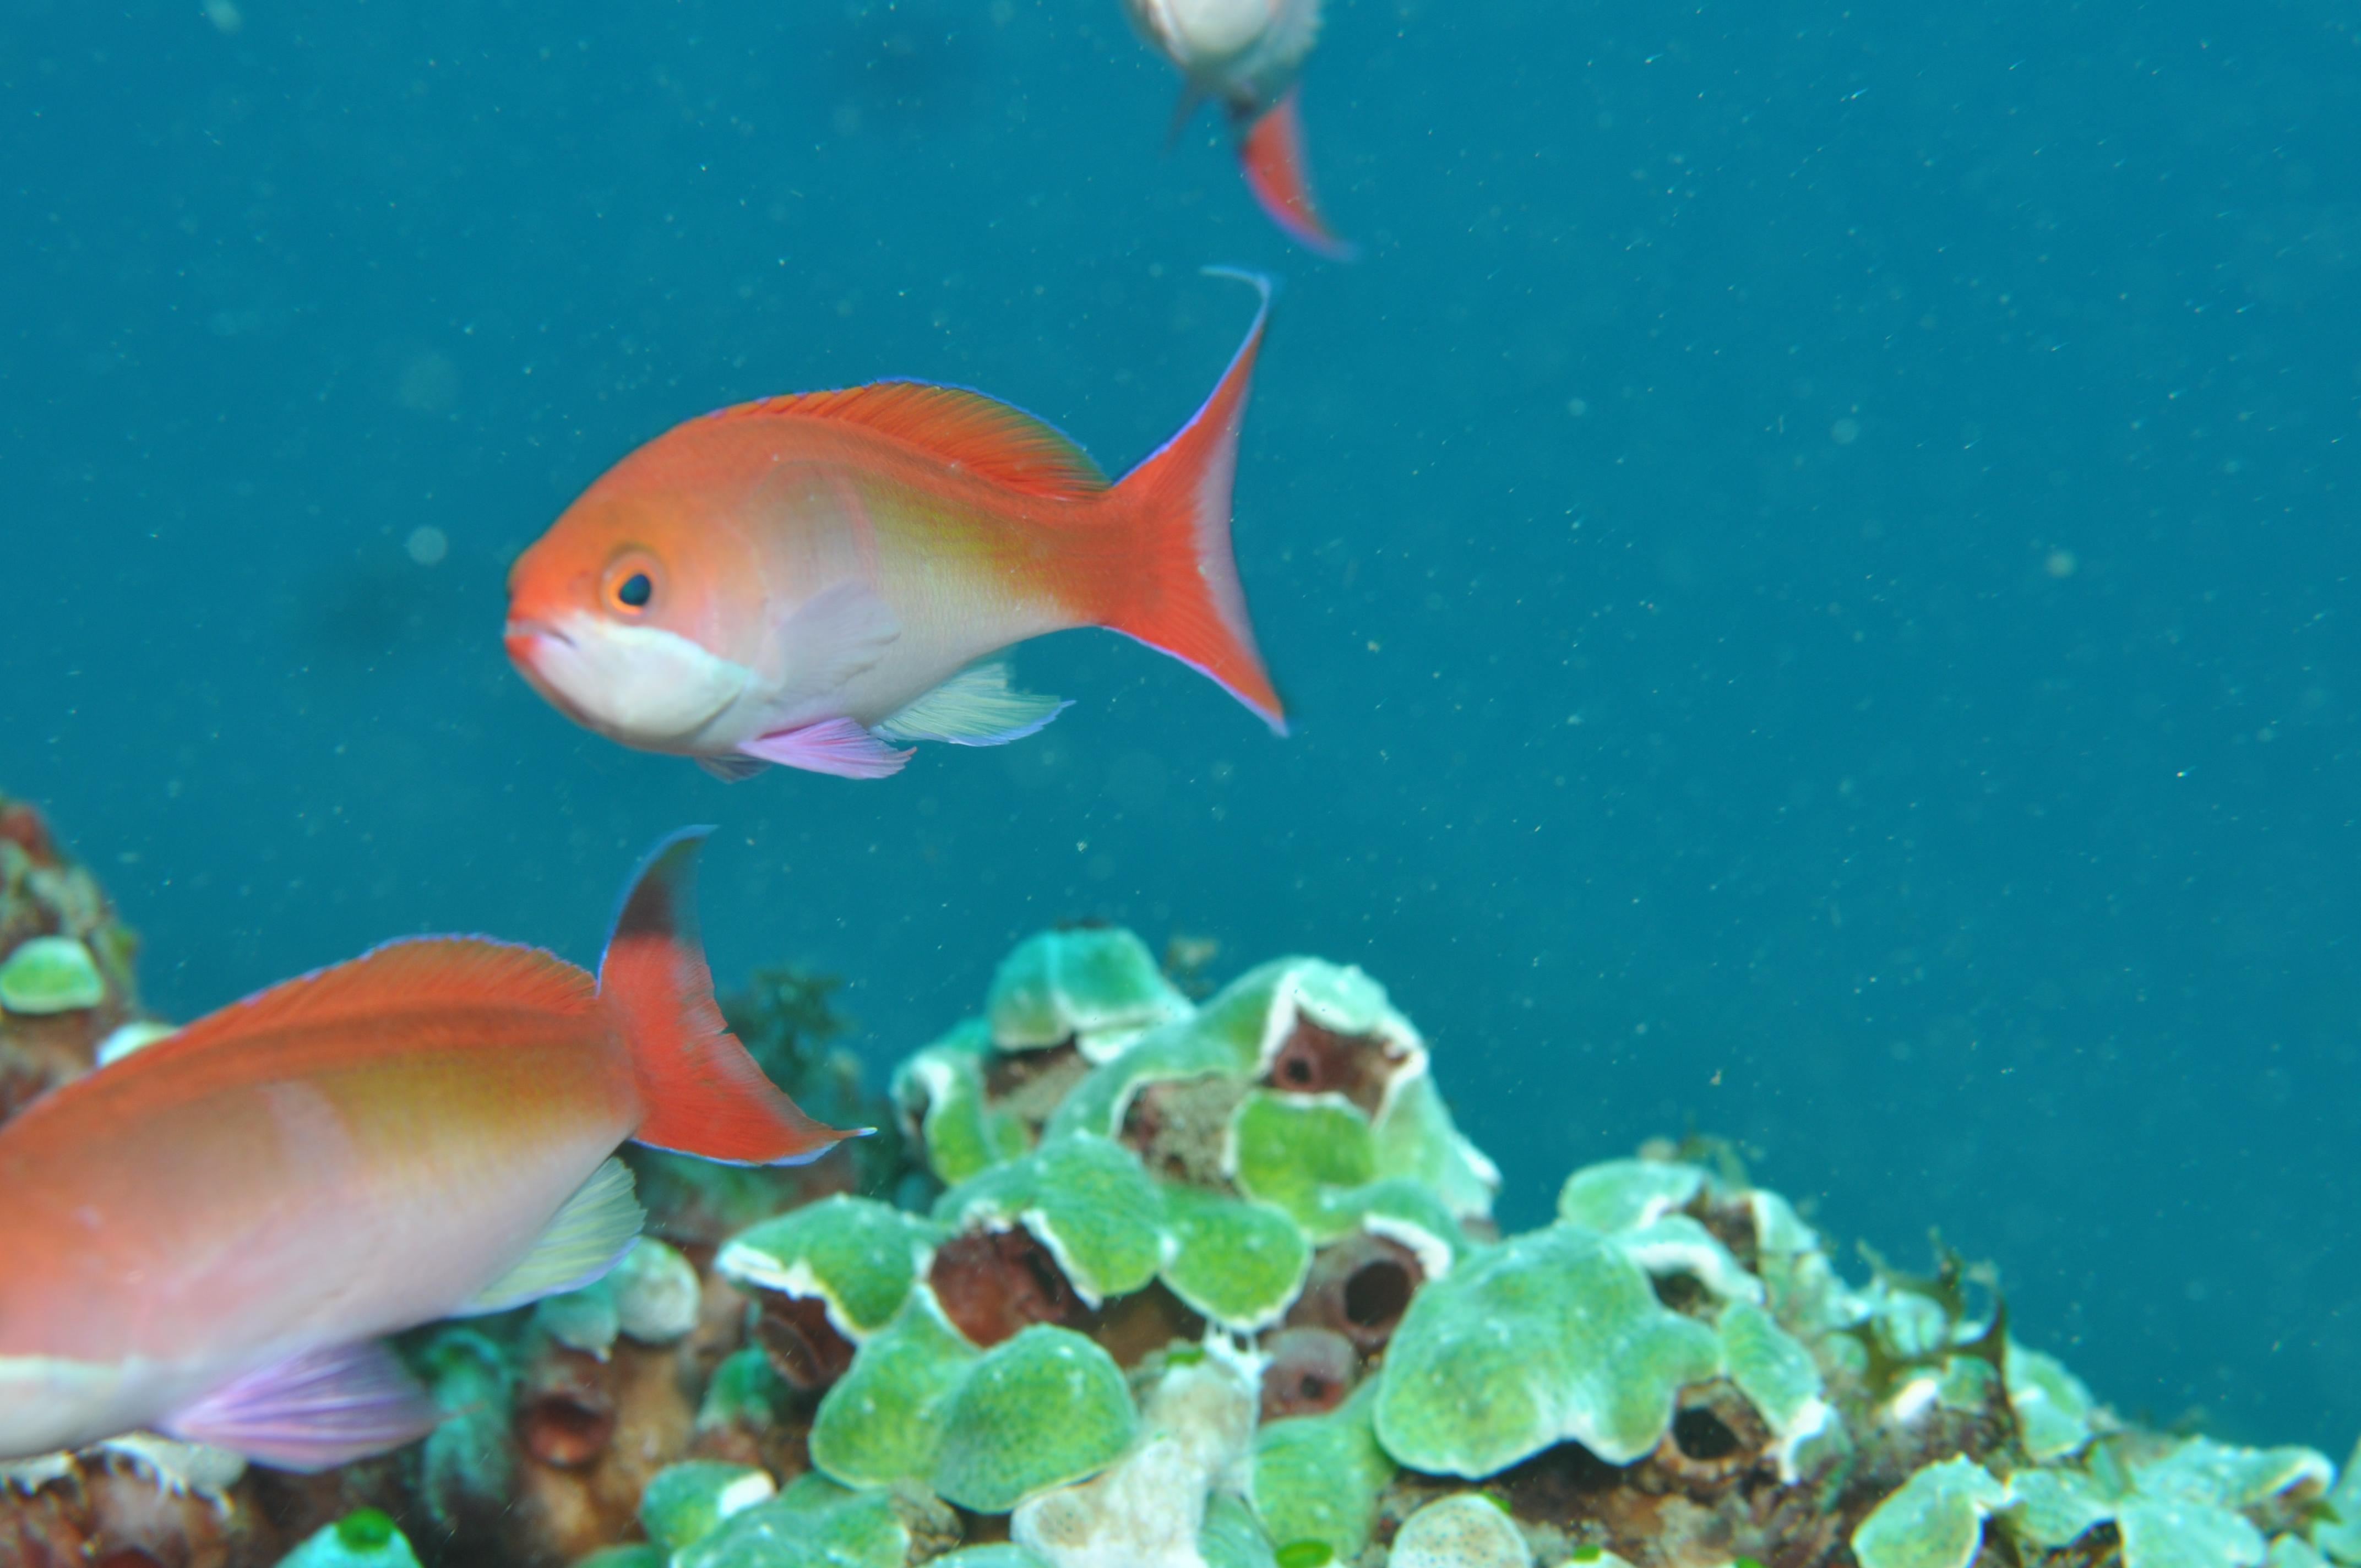Fish: (438, 264, 1519, 908), (0, 810, 791, 1508)
